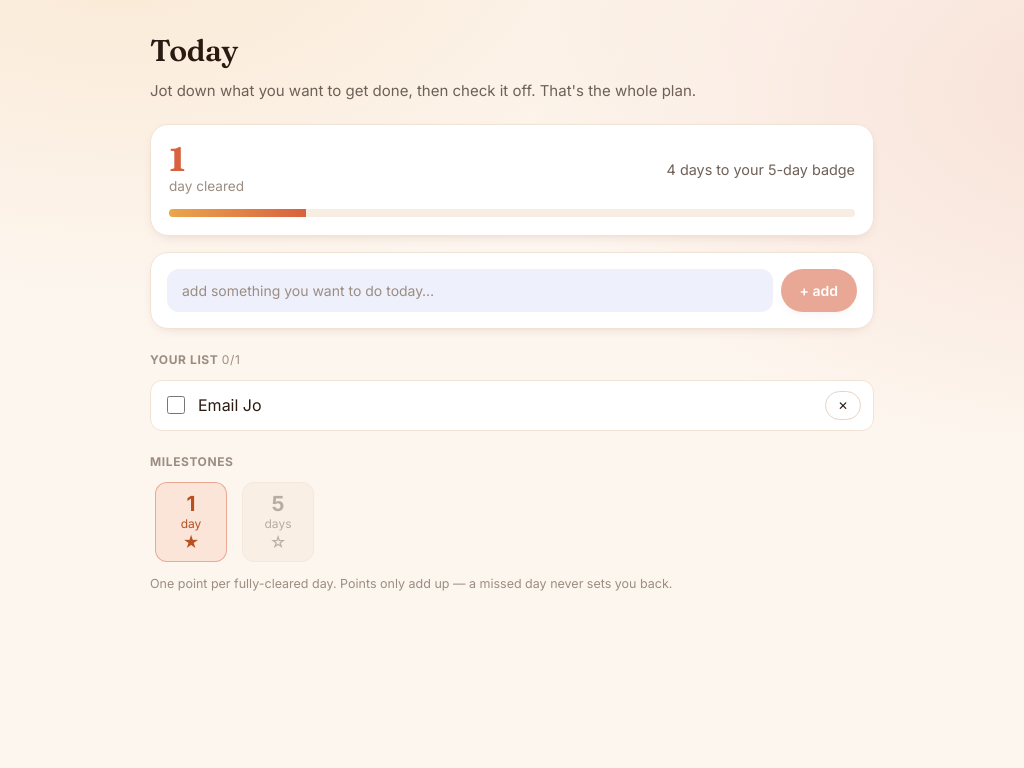
Test case: PlanView › adds a task, sending the local date and title
Type "Call Sam" into the field with placeholder "add something you want to do today…". click: (470, 291)
box: [167, 269, 772, 312]
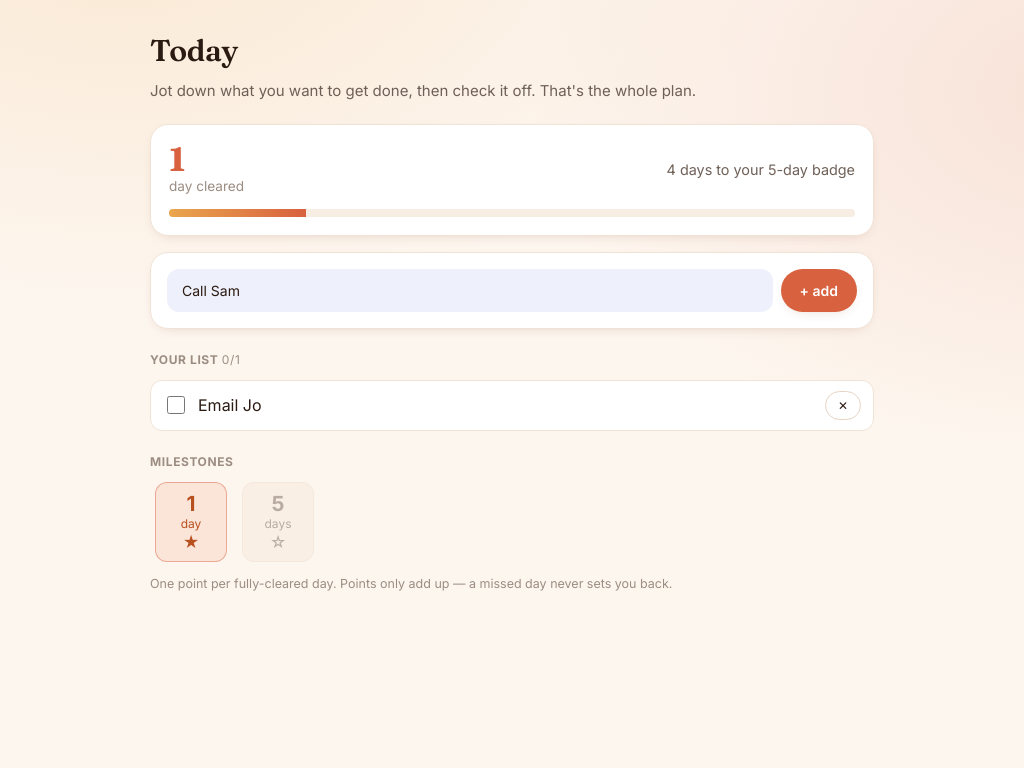
Click the button "+ add". click: (819, 291)
box: [780, 269, 857, 312]
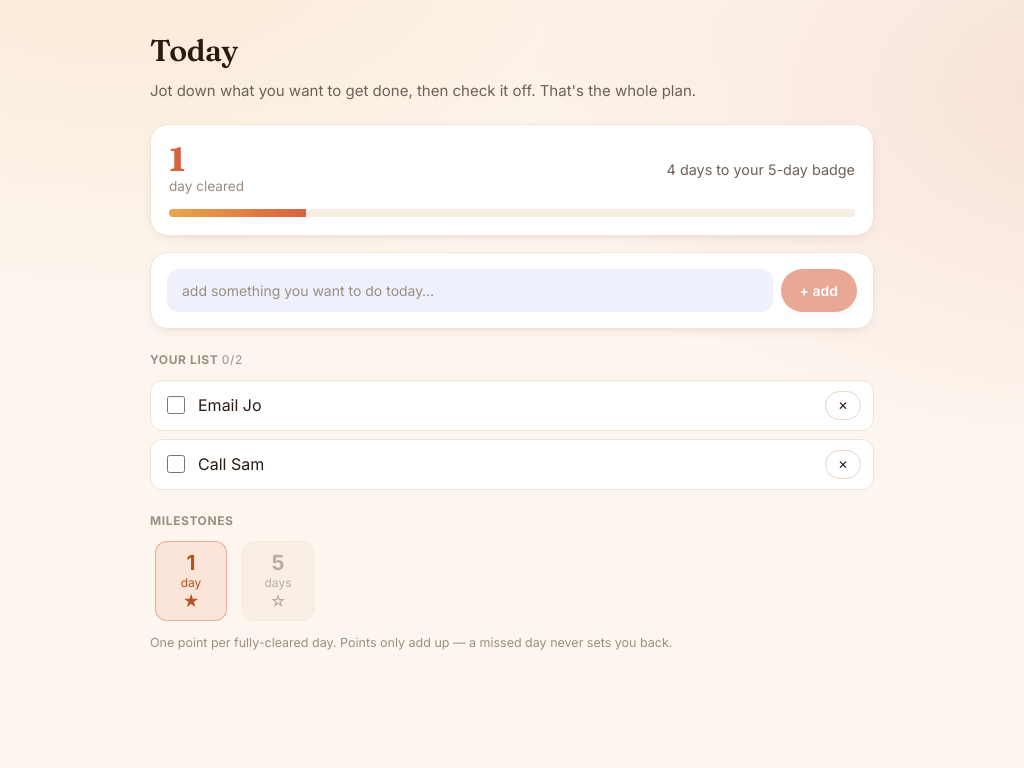
Expected: the number of list items with class "task" is 2, [150, 380, 874, 431]; [150, 439, 874, 490]
